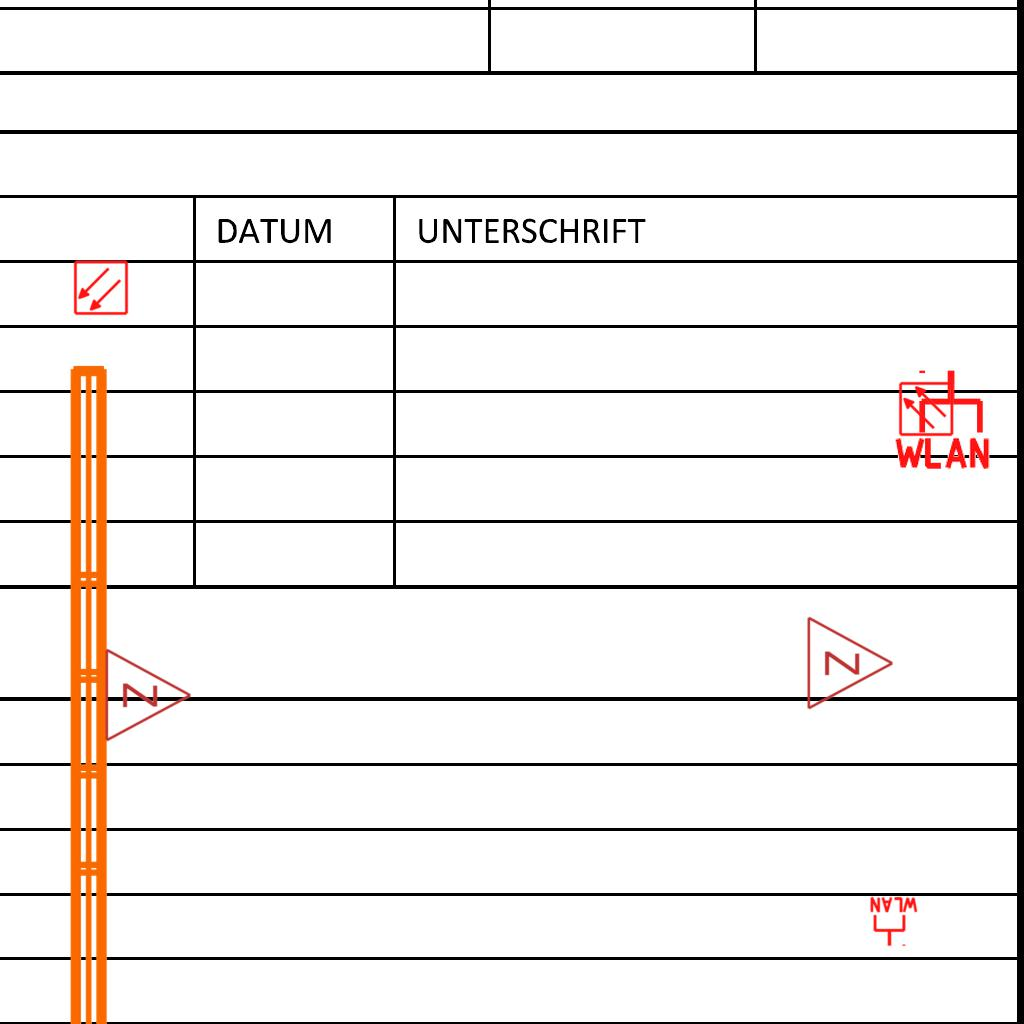Ambulanz_Pendelleuchte_LED: (58, 355, 170, 1024)
RMO_Rauchmelder_optischer: (73, 260, 129, 316), (898, 381, 954, 437)
WLAN: (890, 366, 994, 471), (868, 896, 920, 948)
Zimmersignalleuchte: (98, 645, 198, 743), (800, 613, 900, 711)
